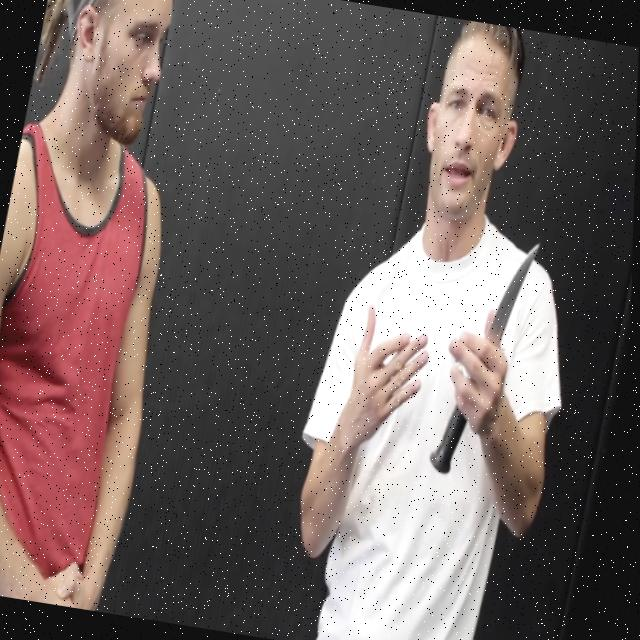knife: (485, 236, 542, 352)
